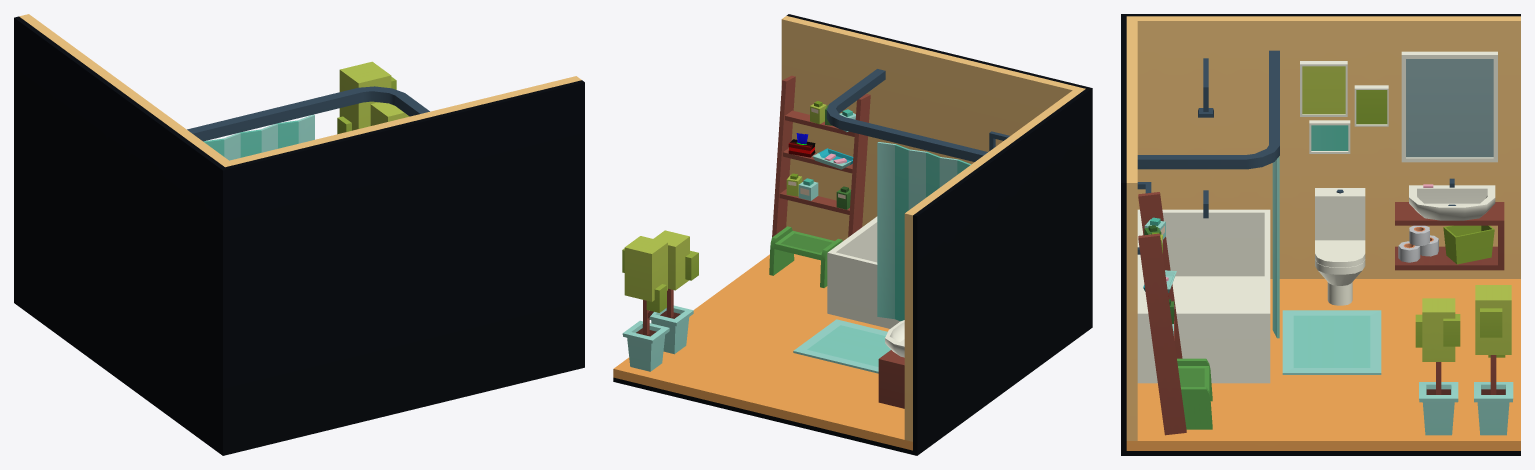
The model's file is Room6_Bathroom.glb.
3 views of the same model, side by side, from view 1: azimuth 30°, elevation 25°; view 2: azimuth 150°, elevation 25°; view 3: azimuth 270°, elevation 25° (orthographic). The views are drawn at different scales.
Parts seen in each view (by area): view 1: Walls, Rod, Curtain, pCube11 (×2); view 2: Walls, Curtain, Tub, pCube11 (×2), Carpet, Rod, pCube9 (×2), Carpet1, pCube1, pCube2, Sink_Shelf, pCube5 (+3 smaller); view 3: Walls, Tub, Mirror, Carpet, pCube1, pCube11 (×2), pCube9 (×2), Rod, Sink_Shelf, sink_low, Picture, tank_low (+12 smaller).
Boxes of the visible parts, x1,y1,x2,y2 form: Walls: (14, 14, 584, 455); Rod: (187, 86, 429, 141); Curtain: (203, 114, 314, 160); pCube11 (×2): (339, 61, 409, 130); Walls: (613, 14, 1092, 455); Curtain: (877, 142, 971, 321); Tub: (827, 216, 899, 328); pCube11 (×2): (624, 230, 689, 301); Carpet: (793, 319, 890, 373); Rod: (826, 69, 987, 161); pCube9 (×2): (622, 305, 693, 371); Carpet1: (769, 226, 842, 287); pCube1: (772, 75, 795, 237); pCube2: (848, 94, 870, 237); Sink_Shelf: (878, 350, 904, 408); pCube5: (779, 189, 849, 214); Walls: (1121, 14, 1520, 455); Tub: (1137, 209, 1270, 383); Mirror: (1401, 51, 1497, 162); Carpet: (1282, 310, 1381, 374); pCube1: (1138, 233, 1186, 435); pCube11 (×2): (1422, 285, 1511, 361); pCube9 (×2): (1419, 382, 1513, 435); Rod: (1137, 50, 1279, 169); Sink_Shelf: (1395, 202, 1504, 270); sink_low: (1409, 185, 1495, 220); Picture: (1300, 61, 1347, 116); tank_low: (1315, 188, 1365, 240).
Size of the model in its own units: 365 by 275 by 365.
Materials: 1 (1 with a texture image).
